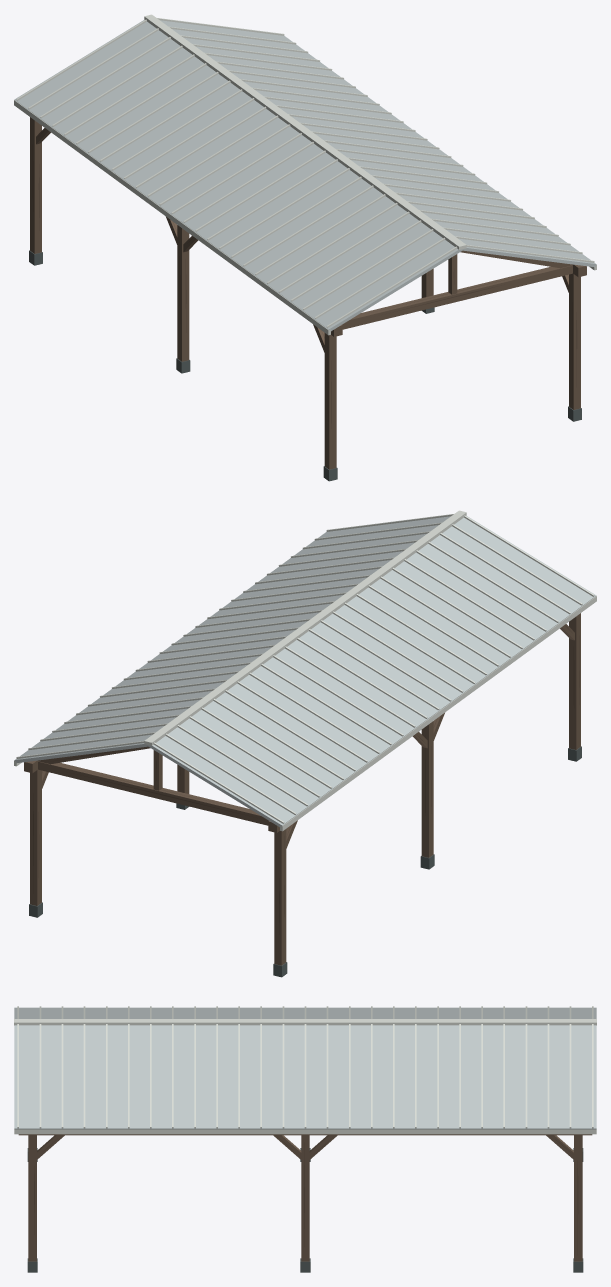
Rendered from boathouse_open.glb.
The picture shows the model from 3 angles, top to bottom: view 1: azimuth 30°, elevation 25°; view 2: azimuth 150°, elevation 25°; view 3: azimuth 270°, elevation 25°; orthographic projection. The views are drawn at different scales.
Parts seen in each view (by area): view 1: boathouse_open; view 2: boathouse_open; view 3: boathouse_open.
Boxes of the visible parts, x1=… form: boathouse_open: x1=14, y1=14, x2=596, y2=481; boathouse_open: x1=14, y1=510, x2=596, y2=977; boathouse_open: x1=14, y1=1006, x2=596, y2=1272.
Bounding box in the file's own units: 5.98 × 4.47 × 12.14.
